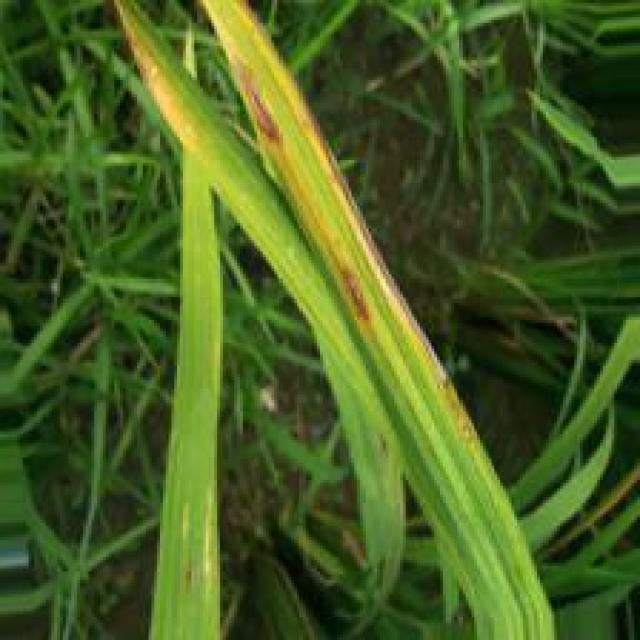Narrow_Brown_Leaf_Spot: (191, 0, 477, 447)
